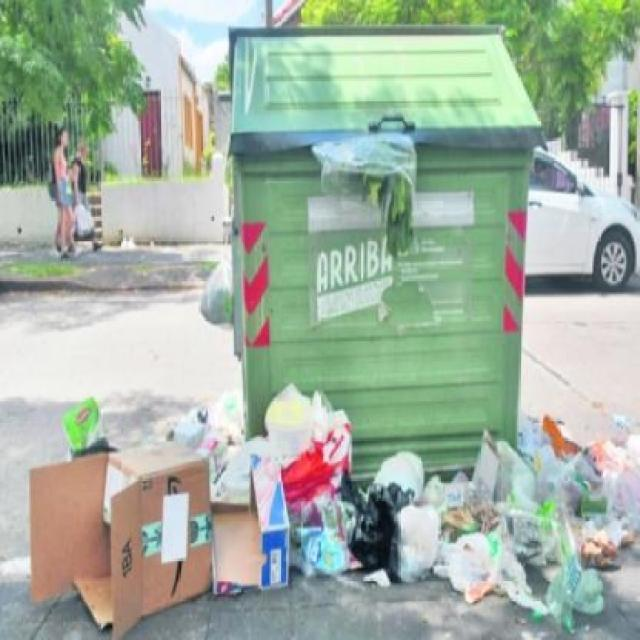garbage: (25, 412, 640, 638), (292, 130, 433, 246), (200, 253, 241, 336)
